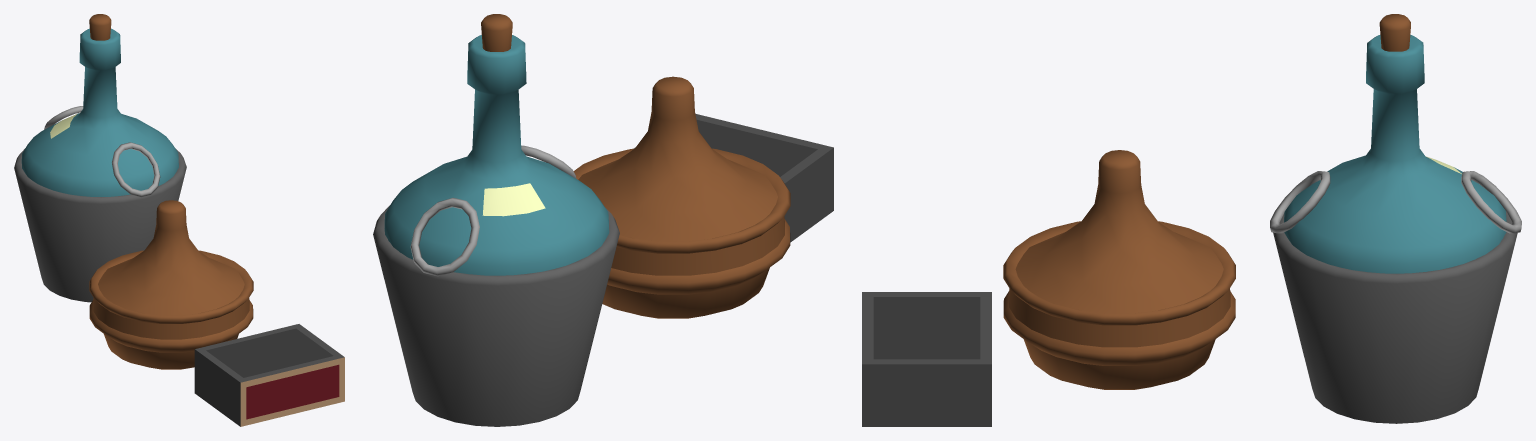
The model's file is DI_067_shelf_items.glb.
The picture shows the model from 3 angles, left to right: view 1: azimuth 30°, elevation 25°; view 2: azimuth 150°, elevation 25°; view 3: azimuth 270°, elevation 25°; orthographic projection. The views are drawn at different scales.
Parts seen in each view (by area): view 1: Bottle01, Bottle02, Box; view 2: Bottle01, Bottle02, Box; view 3: Bottle01, Bottle02, Box.
Boxes of the visible parts, x1,y1,x2,y2 form: Bottle01: (14,14,186,302); Bottle02: (89,200,253,369); Box: (194,324,344,426); Bottle01: (373,14,619,426); Bottle02: (573,76,790,318); Box: (634,113,833,242); Bottle01: (1270,14,1521,423); Bottle02: (1003,150,1235,389); Box: (862,292,991,426).
Bounding box in the file's own units: 0.8289 × 1.2 × 1.94.
